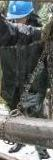boots: (8, 142, 25, 153)
gloves: (0, 11, 17, 56), (1, 0, 1, 0)
hard-hat: (0, 0, 27, 29)
ppe-suit: (0, 0, 1, 1)
